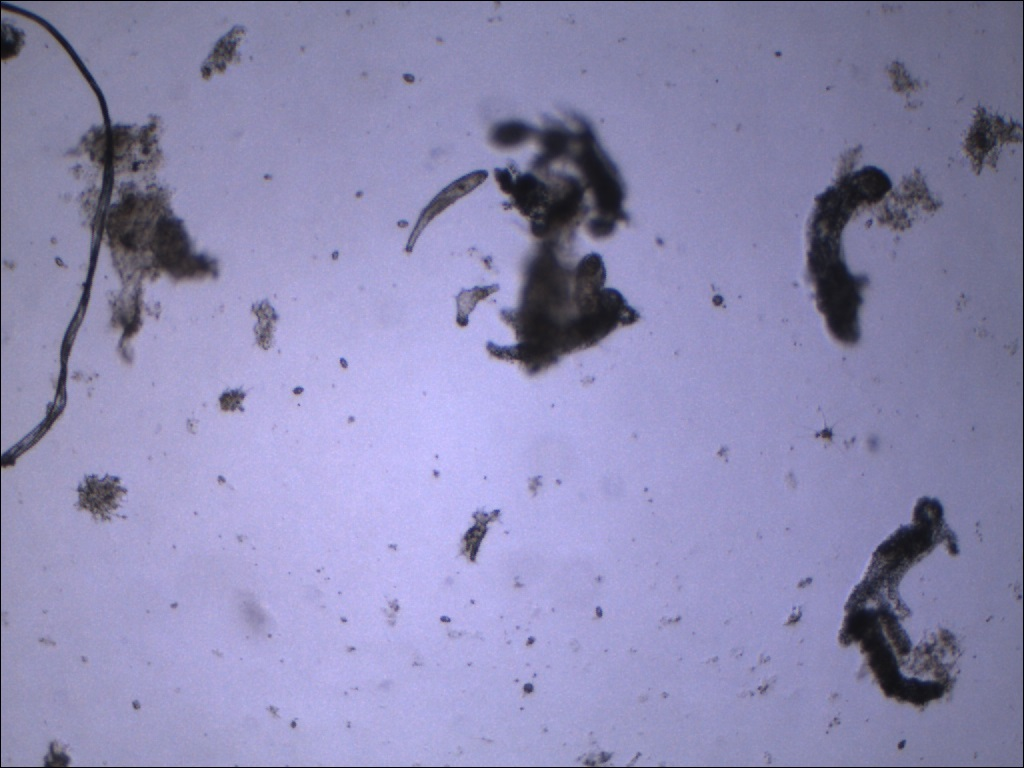amoeba: (797, 162, 899, 350), (838, 488, 967, 620)
